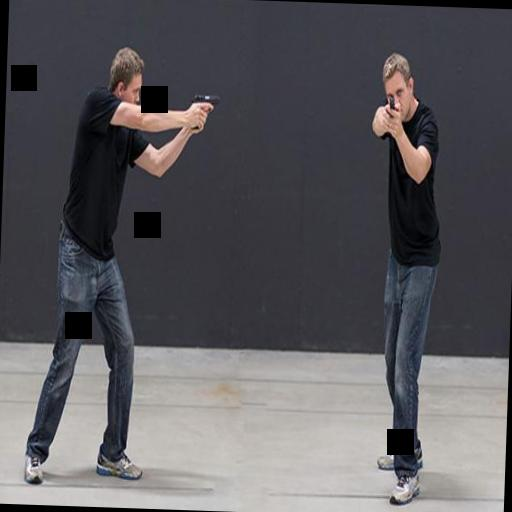Handgun: (180, 88, 224, 126), (380, 90, 396, 128)
